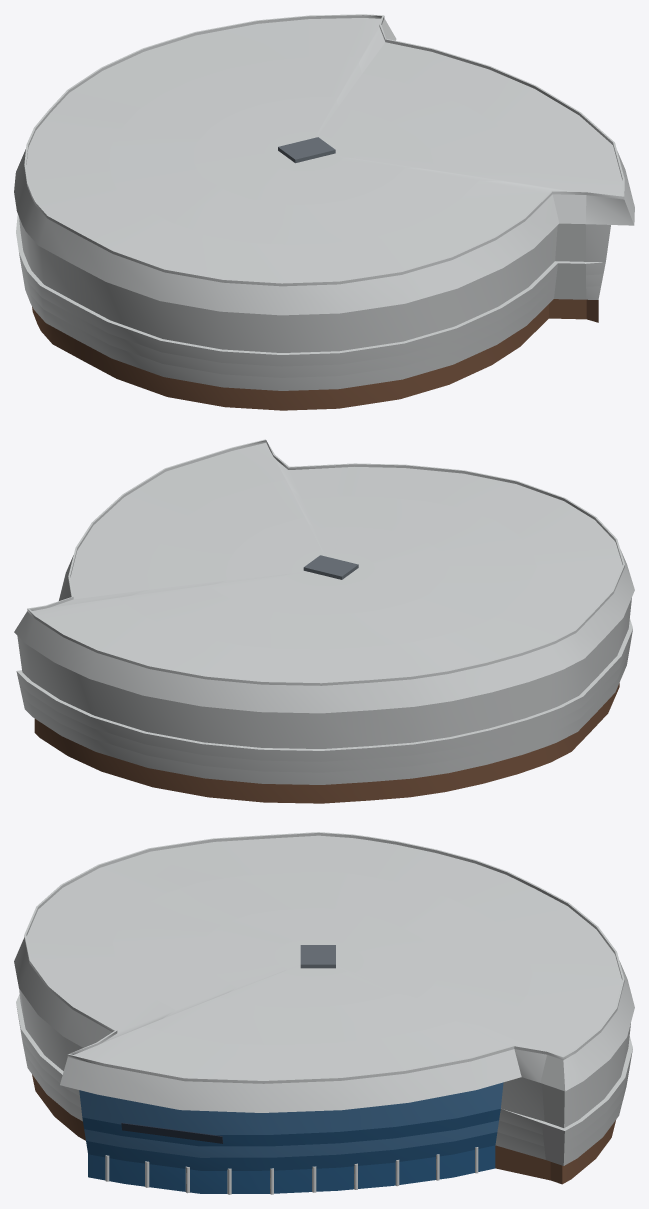
The model's file is chase-center-far.glb.
The picture shows the model from 3 angles, top to bottom: view 1: azimuth 30°, elevation 25°; view 2: azimuth 150°, elevation 25°; view 3: azimuth 270°, elevation 25°; orthographic projection. The views are drawn at different scales.
Parts seen in each view (by area): view 1: chase-center-0-skin, chase-center-0-base, chase-center-0-skin_dark; view 2: chase-center-0-skin, chase-center-0-base, chase-center-0-skin_dark; view 3: chase-center-0-skin, chase-center-0-glow, chase-center-0-glass, chase-center-0-base, chase-center-0-skin_dark, chase-center-0-sign.
Boxes of the visible parts, bbox=[...] form: chase-center-0-skin: bbox=[14, 14, 634, 390]; chase-center-0-base: bbox=[32, 299, 598, 410]; chase-center-0-skin_dark: bbox=[278, 137, 335, 163]; chase-center-0-skin: bbox=[14, 439, 634, 784]; chase-center-0-base: bbox=[34, 683, 619, 803]; chase-center-0-skin_dark: bbox=[303, 555, 358, 579]; chase-center-0-skin: bbox=[14, 832, 634, 1194]; chase-center-0-glow: bbox=[82, 1109, 500, 1193]; chase-center-0-glass: bbox=[79, 1082, 503, 1157]; chase-center-0-base: bbox=[32, 1074, 615, 1184]; chase-center-0-skin_dark: bbox=[300, 945, 335, 968]; chase-center-0-sign: bbox=[121, 1122, 223, 1143].
Size of the model in its own units: 156 by 38.1 by 159.
